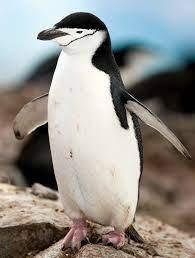chinstrap: (22, 15, 166, 248)
